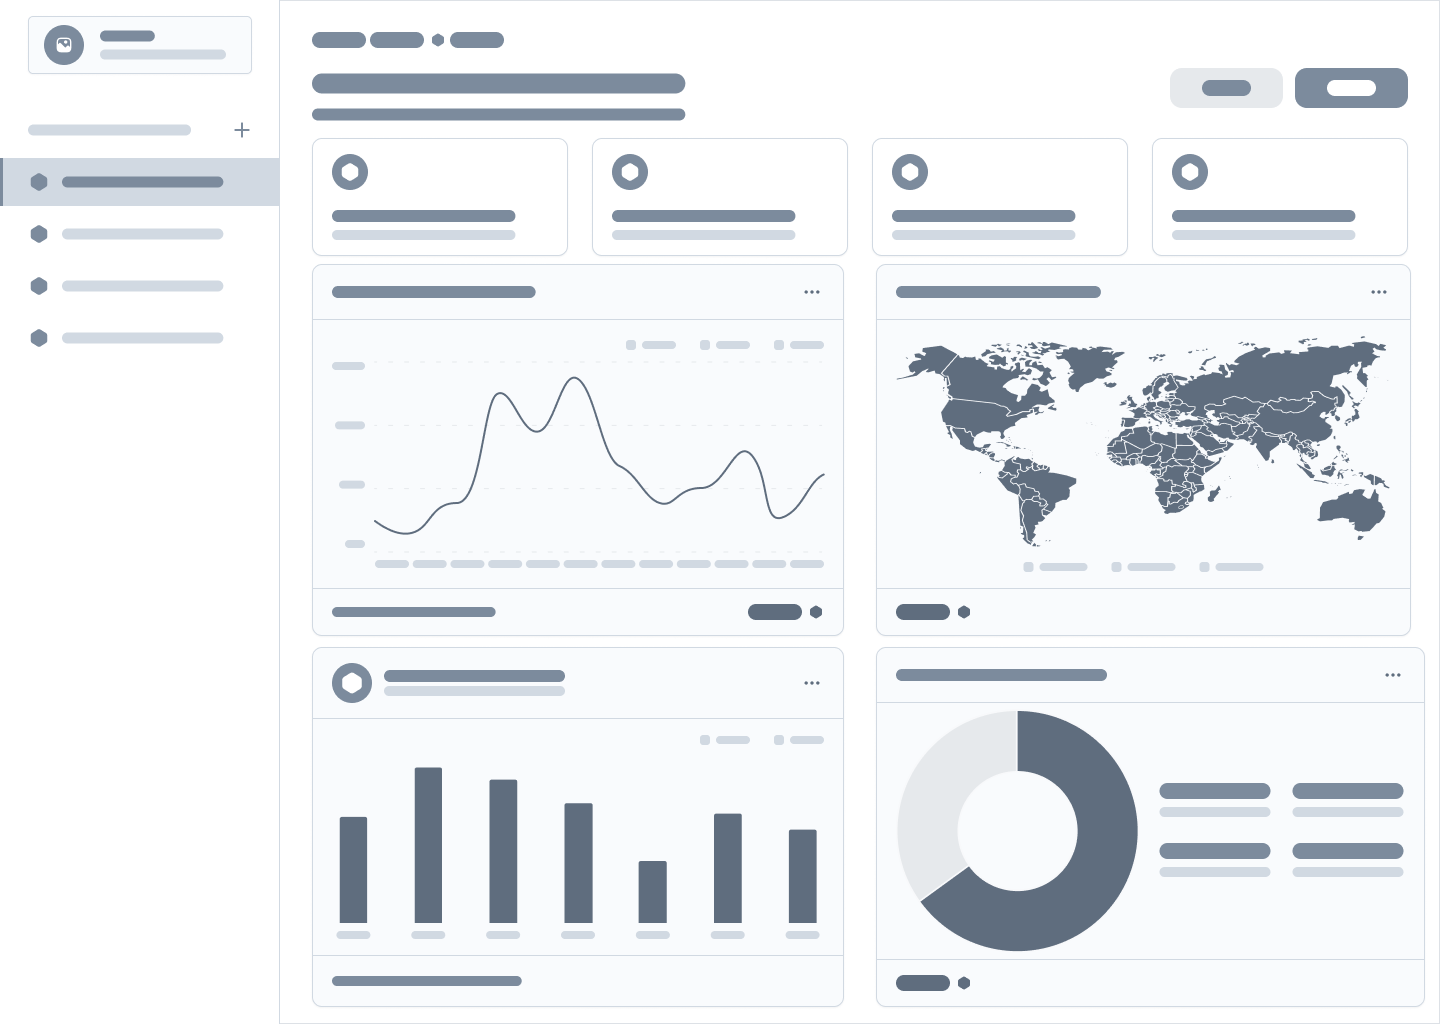

The dashboard page shown, as its layout file describes it:
{"tool":"tableau","page":{"name":"Online Retail Dashboard","canvas":[1420,1024],"ordinal":0},"visuals":[{"type":"text","box":[575,6,370,74]},{"type":"worksheet","title":"Total Orders","mark":"Automatic","box":[999,86,158,78]},{"type":"worksheet","title":"Total Revenue","mark":"Automatic","box":[38,91,145,75]},{"type":"worksheet","title":"Total Quantity","mark":"Automatic","box":[353,92,163,72]},{"type":"worksheet","title":"Total Customers","mark":"Automatic","box":[643,92,178,72]},{"type":"worksheet","title":"Countries by Revenue","mark":"Multipolygon","box":[833,189,436,501]},{"type":"worksheet","title":"Monthly Trend Analysis","mark":"Line","rows":["Total_Transaction_Value"],"cols":["Month"],"box":[6,193,814,453]},{"type":"legend","title":"Countries by Revenue","param":"[federated.09pqt6v0wqsnxp1bhdk0j0dt9du1].[none:Country:nk]","box":[1273,278,148,283]},{"type":"legend","title":"Countries by Revenue","param":"[federated.09pqt6v0wqsnxp1bhdk0j0dt9du1].[sum:Total_Transaction_Value:qk]","box":[1273,569,140,118]},{"type":"worksheet","title":"Top 10 products: Quantity vs Revenue","mark":"Bar","cols":["Product Description"],"box":[15,679,809,326]},{"type":"worksheet","title":"Quarterly Revenue","mark":"Pie","box":[934,698,396,303]},{"type":"legend","title":"Top 10 products: Quantity vs Revenue","param":"[federated.0wvxjc9153whik1eghln61jsqe0k].[:Measure Names]","box":[830,724,140,58]},{"type":"legend","title":"Quarterly Revenue","param":"[federated.09pqt6v0wqsnxp1bhdk0j0dt9du1].[tqr:InvoiceDate:qk]","box":[1283,837,140,76]}]}

Visuals, with their boxes on the page's 1420x1024 design canvas (x1, y1, x2, y2). These are canvas units, not pixel positions in the 1440x1024 screenshot, which may show the page scaled, cropped or inside an application window:
text: <box>575,6,945,80</box>
"Total Orders" worksheet: <box>999,86,1157,164</box>
"Total Revenue" worksheet: <box>38,91,183,166</box>
"Total Quantity" worksheet: <box>353,92,516,164</box>
"Total Customers" worksheet: <box>643,92,821,164</box>
"Countries by Revenue" worksheet (Multipolygon marks): <box>833,189,1269,690</box>
"Monthly Trend Analysis" worksheet (Line marks): <box>6,193,820,646</box>
"Countries by Revenue" legend: <box>1273,278,1421,561</box>
"Countries by Revenue" legend: <box>1273,569,1413,687</box>
"Top 10 products: Quantity vs Revenue" worksheet (Bar marks): <box>15,679,824,1005</box>
"Quarterly Revenue" worksheet (Pie marks): <box>934,698,1330,1001</box>
"Top 10 products: Quantity vs Revenue" legend: <box>830,724,970,782</box>
"Quarterly Revenue" legend: <box>1283,837,1423,913</box>
